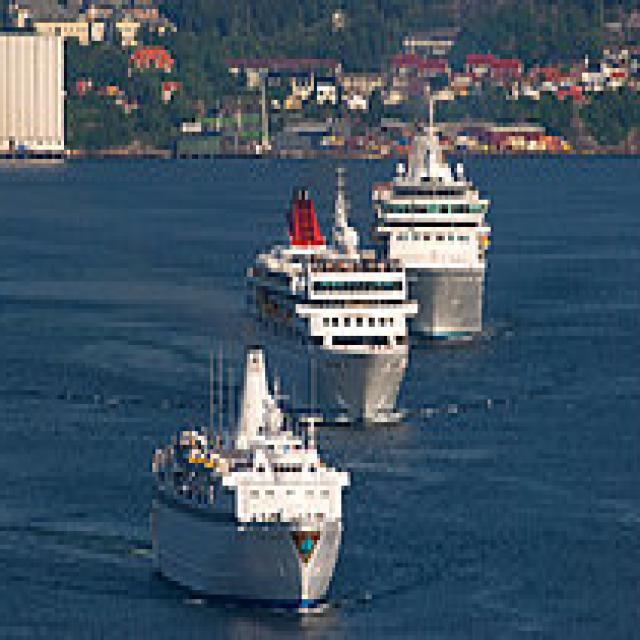Cruise: (150, 341, 356, 608), (246, 159, 424, 427), (372, 87, 500, 340)
